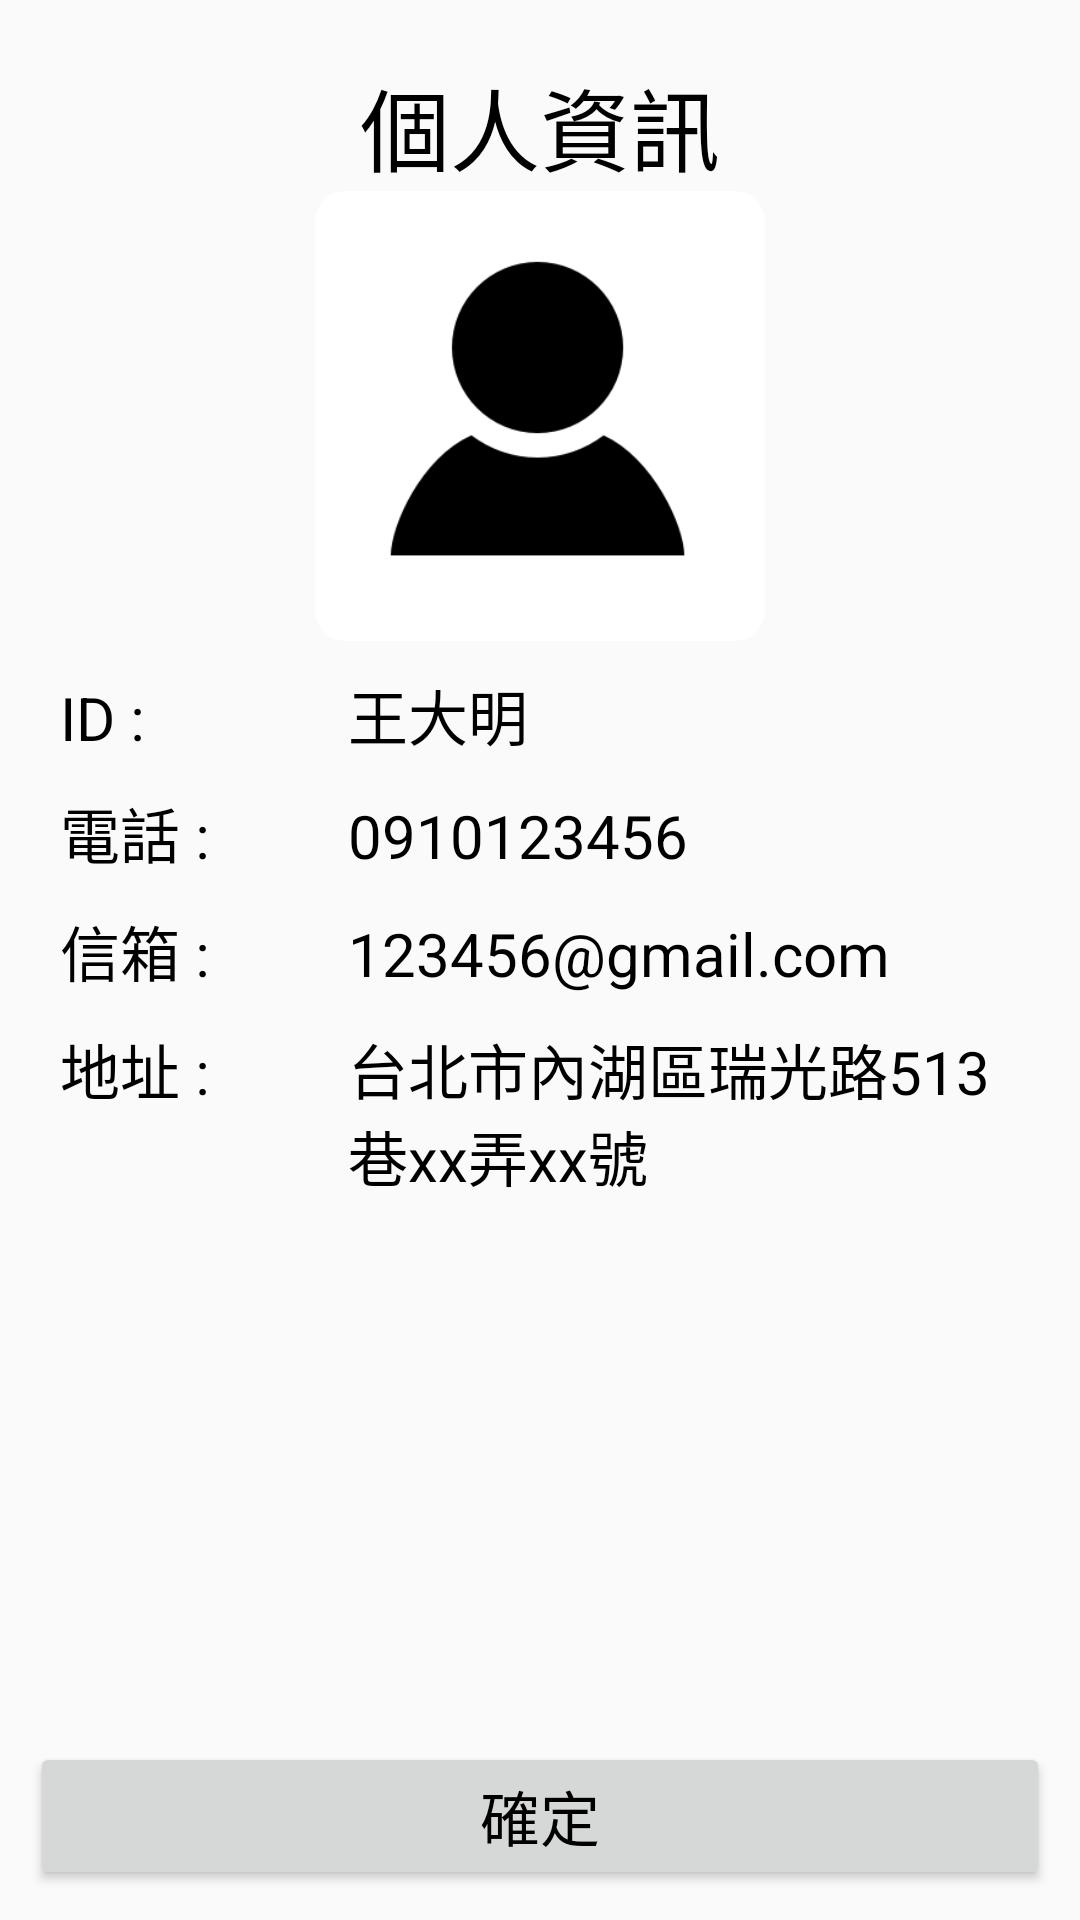

Named icons in this screenshot (1080×1920) and their bounding boxes, (x1, y1, x2, y2):
people: (390, 261, 685, 556)
